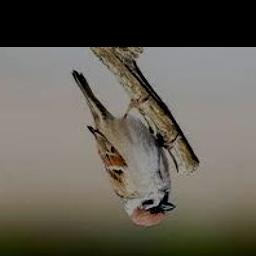Sparrow: (72, 71, 175, 228)
